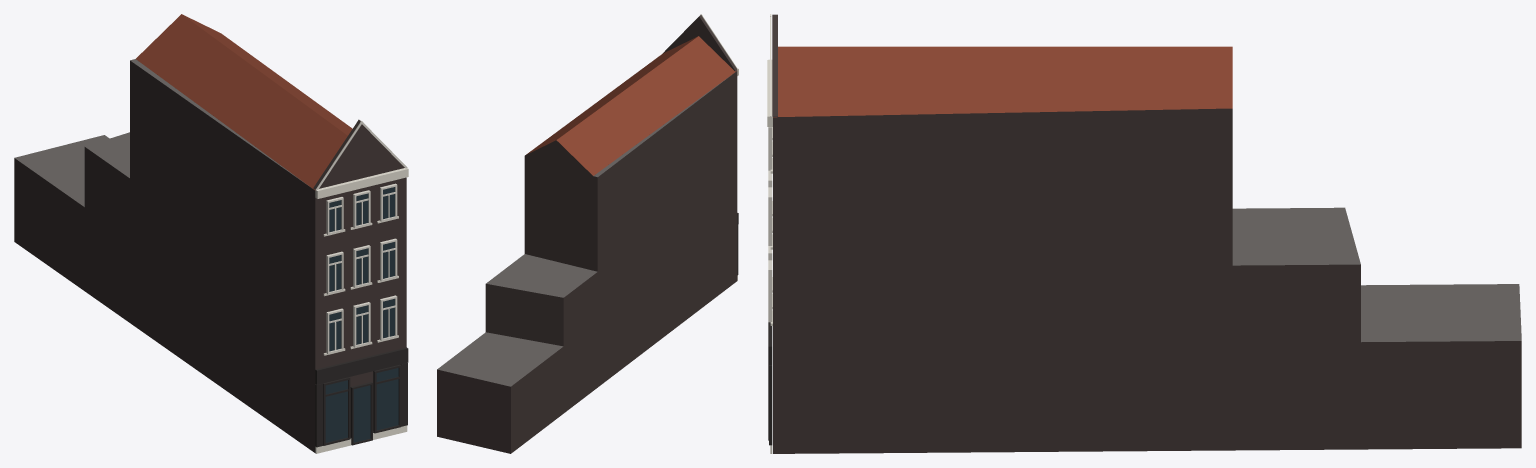
The picture shows the model from 3 angles, left to right: view 1: azimuth 30°, elevation 25°; view 2: azimuth 150°, elevation 25°; view 3: azimuth 270°, elevation 25°; orthographic projection. The views are drawn at different scales.
Parts seen in each view (by area): view 1: spec-0363100012167794; view 2: spec-0363100012167794; view 3: spec-0363100012167794.
Part boxes in pixels (x1,y1,x2,y2): spec-0363100012167794: (14,14,408,453); spec-0363100012167794: (437,14,738,453); spec-0363100012167794: (767,14,1521,453).
Bounding box in the file's own units: 4.57 × 14.01 × 23.29.
